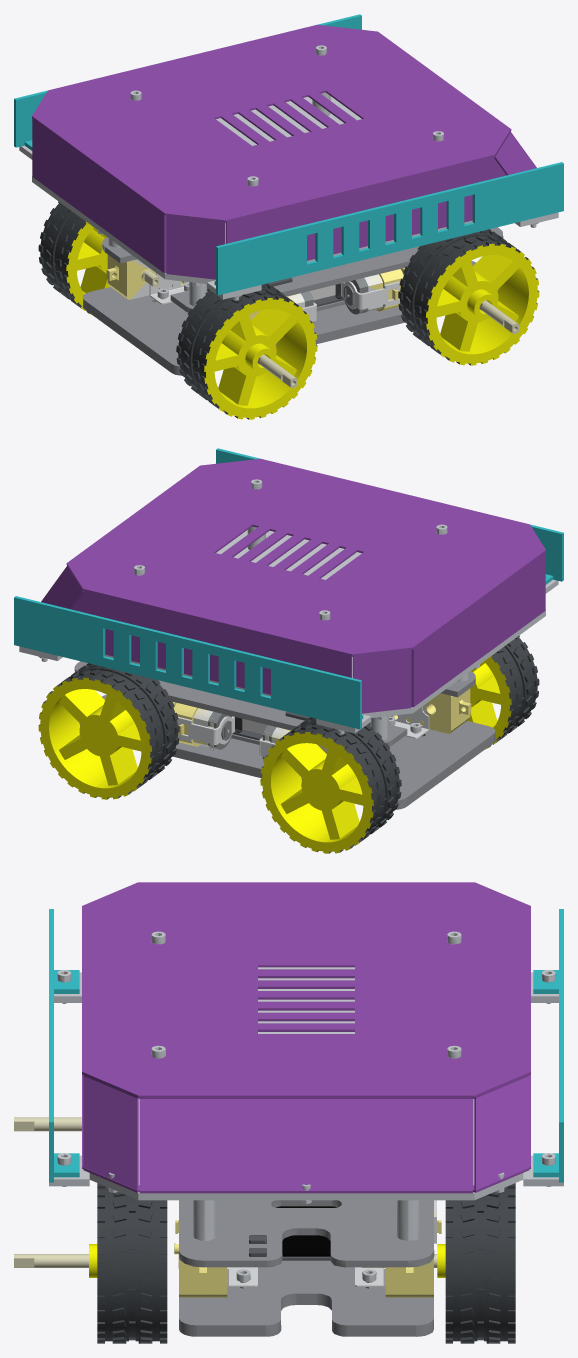
Rendered from wedge_bot.glb.
The picture shows the model from 3 angles, top to bottom: view 1: azimuth 30°, elevation 25°; view 2: azimuth 150°, elevation 25°; view 3: azimuth 270°, elevation 25°; orthographic projection. The views are drawn at different scales.
Visible parts, largest first — view 1: base_link, wheel_rf, wheel_rb, wheel_lb; view 2: base_link, wheel_lf, wheel_lb, wheel_rb; view 3: base_link, wheel_rf, wheel_lf, battery, wheel_rb.
Boxes of the visible parts, x1=… form: base_link: x1=14, y1=14, x2=563, y2=375; wheel_rf: x1=398, y1=229, x2=539, y2=365; wheel_rb: x1=176, y1=283, x2=317, y2=419; wheel_lb: x1=38, y1=201, x2=159, y2=315; base_link: x1=14, y1=448, x2=563, y2=809; wheel_lf: x1=38, y1=663, x2=179, y2=799; wheel_lb: x1=260, y1=717, x2=401, y2=853; wheel_rb: x1=467, y1=635, x2=539, y2=749; base_link: x1=49, y1=882, x2=563, y2=1336; wheel_rf: x1=14, y1=1183, x2=167, y2=1343; wheel_lf: x1=362, y1=1183, x2=515, y2=1343; battery: x1=276, y1=1206, x2=337, y2=1256; wheel_rb: x1=14, y1=1117, x2=81, y2=1131.
Size of the model in its own units: 0.2186 by 0.119 by 0.2157.
